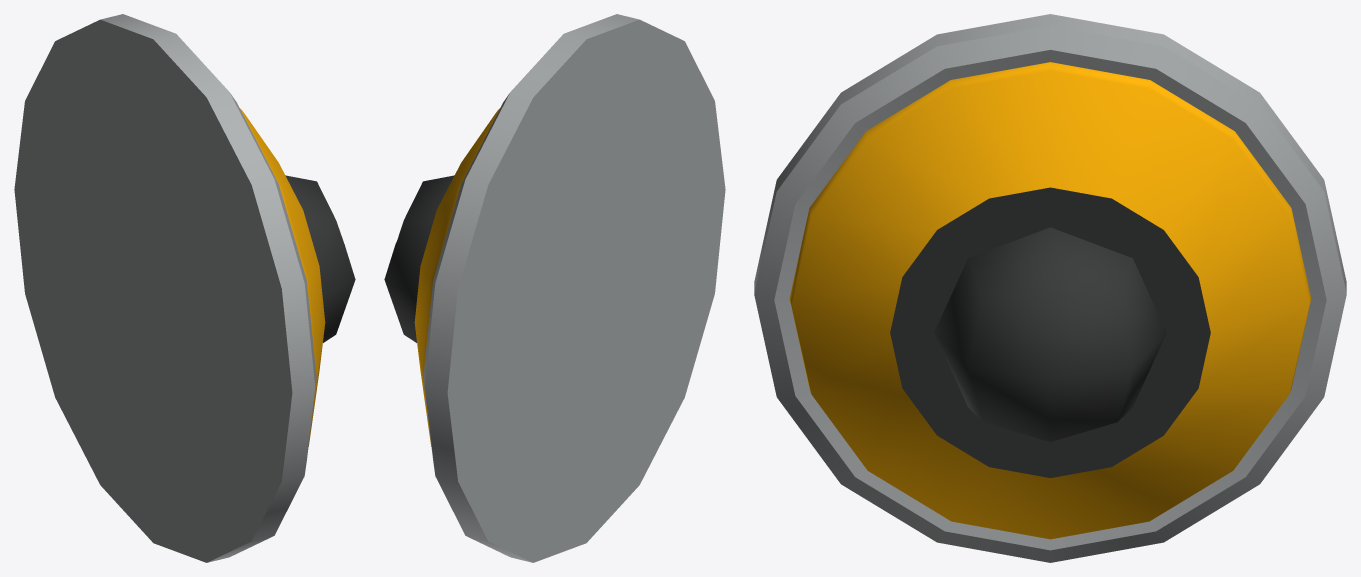
Rendered from Drone_002_L_Shoulder_001.fbx.
The picture shows the model from 3 angles, left to right: view 1: azimuth 30°, elevation 25°; view 2: azimuth 150°, elevation 25°; view 3: azimuth 270°, elevation 25°; orthographic projection. The views are drawn at different scales.
Parts seen in each view (by area): view 1: Drone_002_L_Shoulder_001; view 2: Drone_002_L_Shoulder_001; view 3: Drone_002_L_Shoulder_001.
Part boxes in pixels (box(x1,y1,x2,y2)): Drone_002_L_Shoulder_001: box(14, 14, 355, 562); Drone_002_L_Shoulder_001: box(384, 14, 725, 562); Drone_002_L_Shoulder_001: box(754, 14, 1346, 562).
Bounding box in the file's own units: 9.71 × 24.45 × 24.45.
